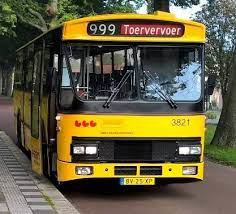autobus: (10, 11, 210, 193)
